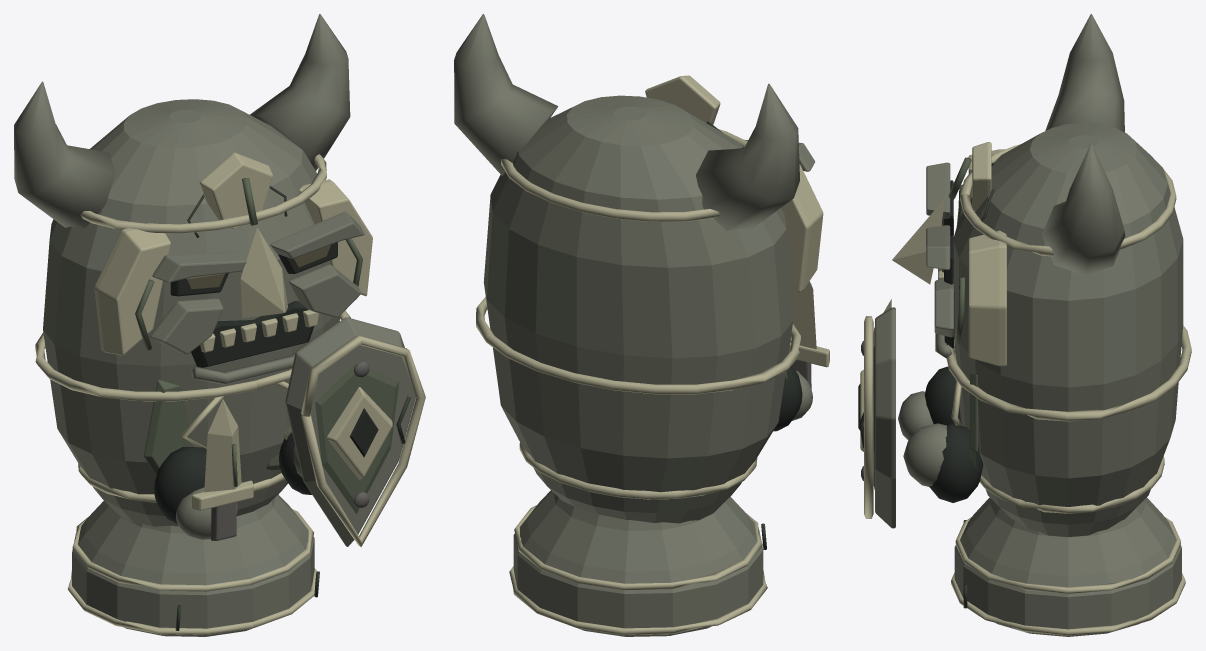
The model's file is armos.glb.
The picture shows the model from 3 angles, left to right: view 1: azimuth 30°, elevation 25°; view 2: azimuth 150°, elevation 25°; view 3: azimuth 270°, elevation 25°; orthographic projection. The views are drawn at different scales.
Parts seen in each view (by area): view 1: Armos.0.04.carved idol core, Armos.0.13.faceted octagonal pedestal, Armos.0.07.thick stone buckler, Armos.0.04.upturned carved horn, Armos.0.04.upturned carved horn.001, Armos.0.04.beveled temple, Armos.0.07.recessed shield field, Armos.0.07.shield bevel outline, Armos.0.04.forehead crest, Armos.0.04.recessed grimace, Armos.0.04.carved circumferential band.001, Armos.0.04.angular nose (+19 smaller); view 2: Armos.0.04.carved idol core, Armos.0.13.faceted octagonal pedestal, Armos.0.04.upturned carved horn, Armos.0.04.upturned carved horn.001, Armos.0.04.carved circumferential band.001, Armos.0.04.beveled temple, Armos.0.04.carved circumferential band.002, Armos.0.13.pedestal beveled rim.001, Armos.0.13.pedestal beveled rim, Armos.0.04.carved circumferential band, Armos.0.04.forehead crest, Armos.0.10.chiseled sword blade (+2 smaller); view 3: Armos.0.04.carved idol core, Armos.0.13.faceted octagonal pedestal, Armos.0.04.upturned carved horn.001, Armos.0.04.upturned carved horn, Armos.0.04.beveled temple.001, Armos.0.07.thick stone buckler, Armos.0.04.carved circumferential band.001, Armos.0.04.stone shoulder socket.001, Armos.0.04.carved circumferential band.002, Armos.0.07.shield wrist, Armos.0.07.shield bevel outline, Armos.0.13.pedestal beveled rim.001 (+10 smaller).
Boxes of the visible parts, <box> form: Armos.0.04.carved idol core: <box>43,99,340,526</box>; Armos.0.13.faceted octagonal pedestal: <box>72,494,314,636</box>; Armos.0.07.thick stone buckler: <box>285,317,415,546</box>; Armos.0.04.upturned carved horn: <box>14,81,115,227</box>; Armos.0.04.upturned carved horn.001: <box>250,14,350,170</box>; Armos.0.04.beveled temple: <box>94,223,170,355</box>; Armos.0.07.recessed shield field: <box>315,362,399,513</box>; Armos.0.07.shield bevel outline: <box>301,335,425,546</box>; Armos.0.04.forehead crest: <box>199,152,272,228</box>; Armos.0.04.recessed grimace: <box>191,301,314,367</box>; Armos.0.04.carved circumferential band.001: <box>35,310,350,401</box>; Armos.0.04.angular nose: <box>240,227,287,318</box>; Armos.0.04.carved idol core: <box>483,95,793,523</box>; Armos.0.13.faceted octagonal pedestal: <box>513,490,763,636</box>; Armos.0.04.upturned carved horn: <box>696,83,799,230</box>; Armos.0.04.upturned carved horn.001: <box>454,14,558,175</box>; Armos.0.04.carved circumferential band.001: <box>476,297,800,394</box>; Armos.0.04.beveled temple: <box>781,164,823,292</box>; Armos.0.04.carved circumferential band.002: <box>501,129,747,221</box>; Armos.0.13.pedestal beveled rim.001: <box>514,505,762,590</box>; Armos.0.13.pedestal beveled rim: <box>509,566,767,634</box>; Armos.0.04.carved circumferential band: <box>519,442,757,499</box>; Armos.0.04.forehead crest: <box>645,75,720,124</box>; Armos.0.10.chiseled sword blade: <box>790,281,816,349</box>; Armos.0.04.carved idol core: <box>953,123,1183,536</box>; Armos.0.13.faceted octagonal pedestal: <box>954,497,1181,636</box>; Armos.0.04.upturned carved horn.001: <box>1042,144,1125,276</box>; Armos.0.04.upturned carved horn: <box>1045,14,1124,132</box>; Armos.0.04.beveled temple.001: <box>968,230,1006,366</box>; Armos.0.07.thick stone buckler: <box>875,307,895,528</box>; Armos.0.04.carved circumferential band.001: <box>946,325,1191,421</box>; Armos.0.04.stone shoulder socket.001: <box>929,423,983,502</box>; Armos.0.04.carved circumferential band.002: <box>960,144,1176,256</box>; Armos.0.07.shield wrist: <box>903,423,946,486</box>; Armos.0.07.shield bevel outline: <box>864,316,873,518</box>; Armos.0.13.pedestal beveled rim.001: <box>955,517,1180,593</box>.
Size of the model in its own units: 47.6 by 73.87 by 43.41.
